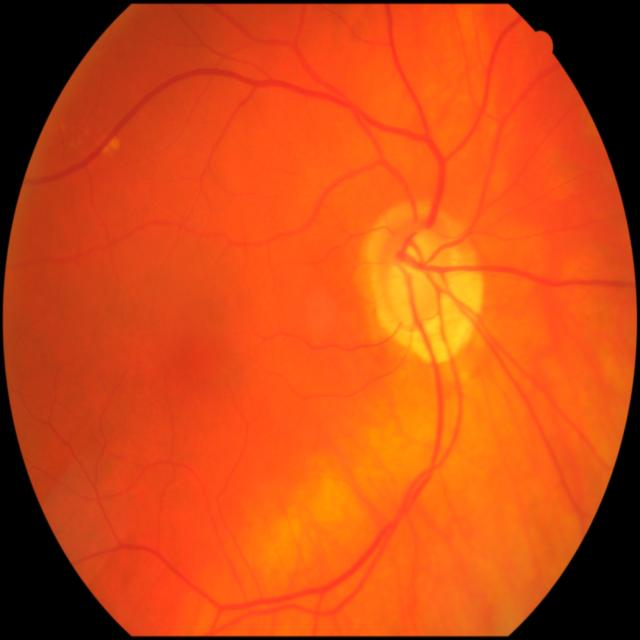OC: (394, 233, 429, 281)
OD: (370, 205, 486, 344)
